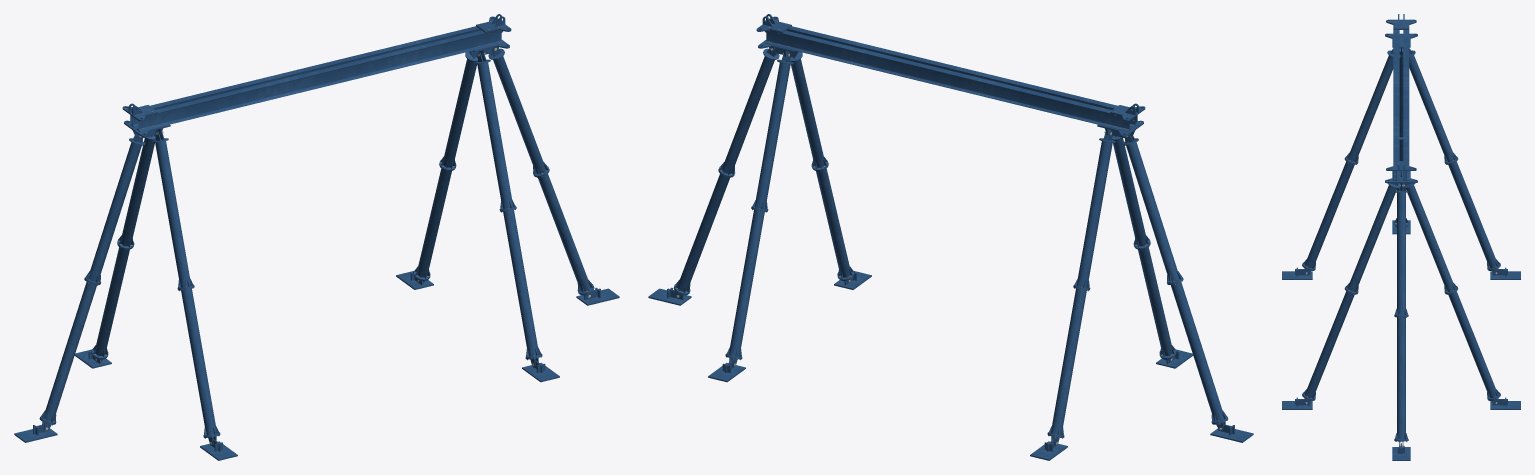
The model's file is huoyunzhijia.FBX.
The picture shows the model from 3 angles, left to right: view 1: azimuth 30°, elevation 25°; view 2: azimuth 150°, elevation 25°; view 3: azimuth 270°, elevation 25°; orthographic projection. The views are drawn at different scales.
Parts seen in each view (by area): view 1: Rectangle026, Box031, Box037, Box032, Box038, Box028, Box029, Box010, Box011, Box034, Box035, Box041 (+1 smaller); view 2: Rectangle026, Box034, Box040, Box035, Box041, Box028, Box029, Box010, Box011, Box031, Box032, Box038 (+1 smaller); view 3: Rectangle026, Box010, Box032, Box035, Box038, Box041, Box011, Box034, Box031, Box040, Box037, Box028 (+5 smaller).
Boxes of the visible parts, x1,y1,x2,y2 form: Rectangle026: (122, 14, 511, 131); Box031: (474, 52, 516, 212); Box037: (152, 131, 194, 291); Box032: (500, 207, 542, 367); Box038: (177, 286, 220, 445); Box028: (84, 134, 145, 285); Box029: (39, 278, 100, 431); Box010: (488, 47, 549, 176); Box011: (534, 169, 594, 298); Box034: (439, 51, 477, 170); Box035: (413, 163, 455, 283); Box041: (91, 243, 133, 361); Rectangle026: (756, 14, 1145, 131); Box034: (751, 52, 793, 212); Box040: (1073, 131, 1115, 291); Box035: (725, 207, 767, 367); Box041: (1047, 286, 1089, 445); Box028: (1122, 134, 1183, 284); Box029: (1167, 279, 1228, 431); Box010: (718, 47, 779, 177); Box011: (673, 170, 734, 298); Box031: (790, 51, 828, 170); Box032: (812, 163, 854, 283); Box038: (1134, 242, 1176, 362); Rectangle026: (1386, 14, 1416, 180); Box010: (1394, 183, 1408, 317); Box032: (1302, 288, 1357, 404); Box035: (1445, 288, 1500, 404); Box038: (1302, 158, 1357, 275); Box041: (1445, 158, 1500, 275); Box011: (1394, 316, 1408, 447); Box034: (1403, 183, 1457, 293); Box031: (1345, 183, 1399, 293); Box040: (1402, 48, 1457, 163); Box037: (1345, 49, 1400, 163); Box028: (1399, 47, 1403, 139).
Size of the model in its own units: 923 by 454 by 389.
3 materials, 3 textured.
